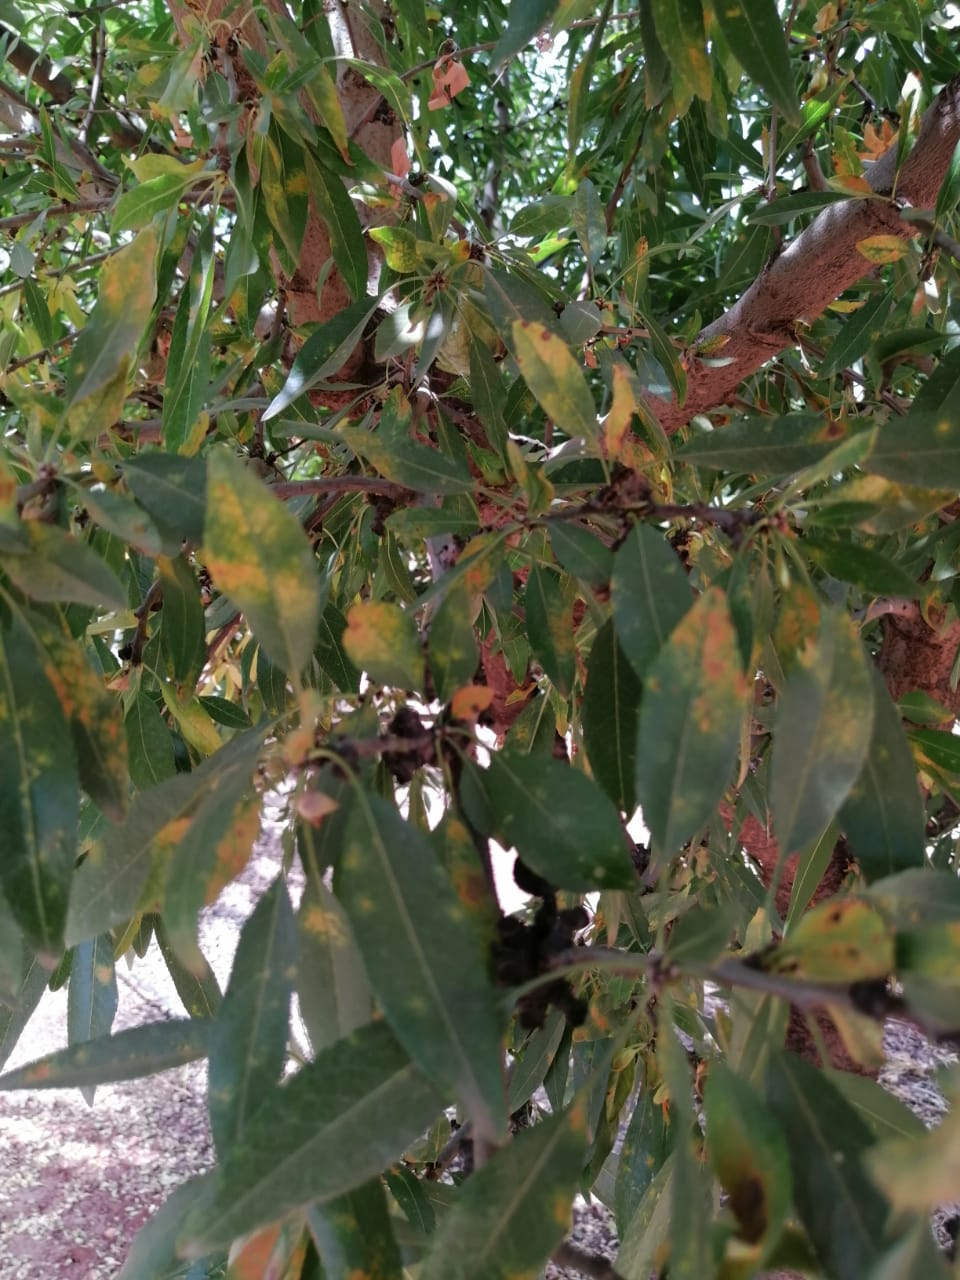polystigma: (634, 584, 749, 888), (190, 441, 328, 687), (764, 603, 883, 871), (55, 217, 159, 418), (503, 314, 617, 467), (336, 596, 430, 698)
